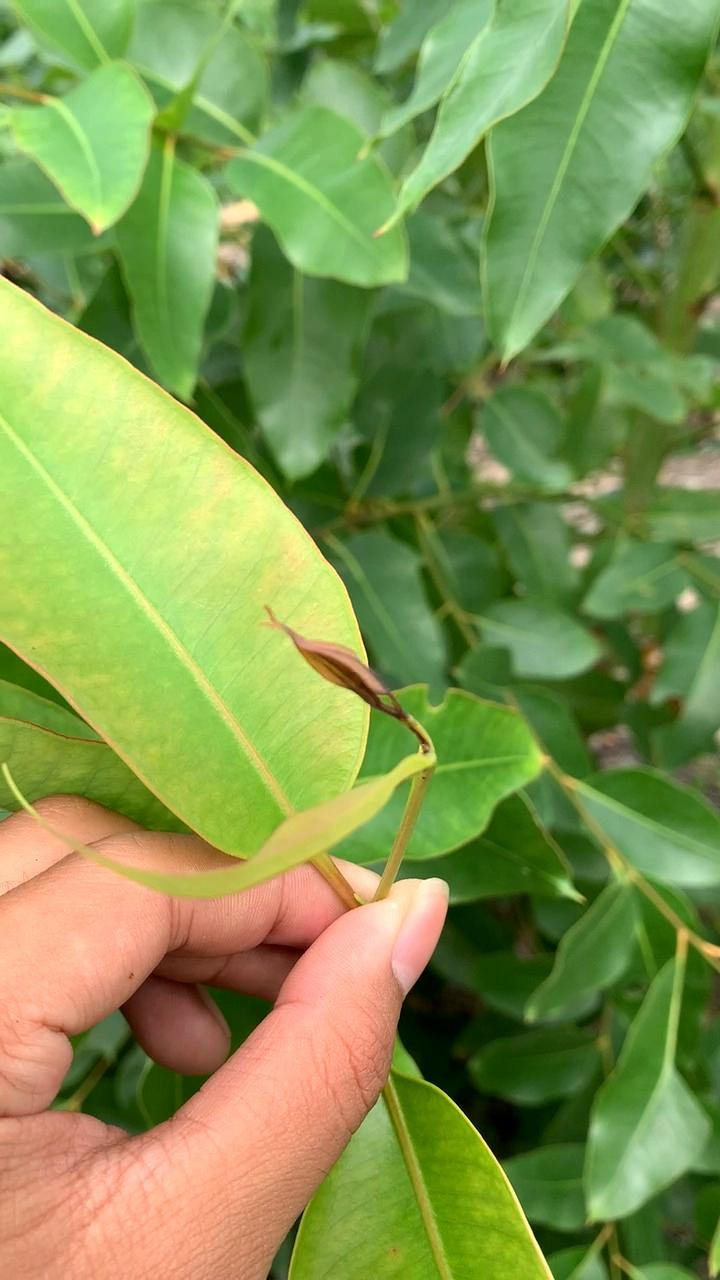Helopeltis-Withered Sprout: (263, 608, 439, 747)
